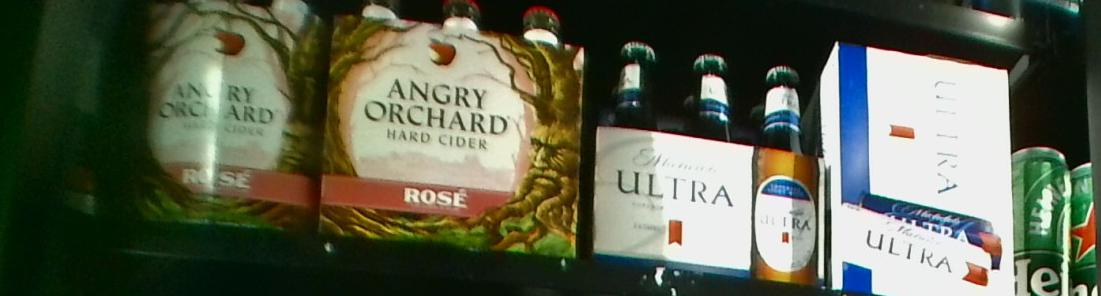bottle: (600, 31, 817, 279), (835, 42, 1009, 296)
